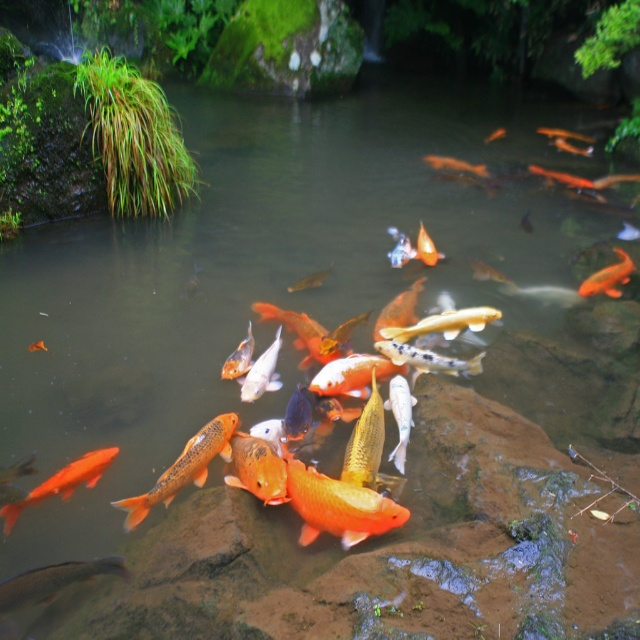Fish: (0, 126, 640, 551)
